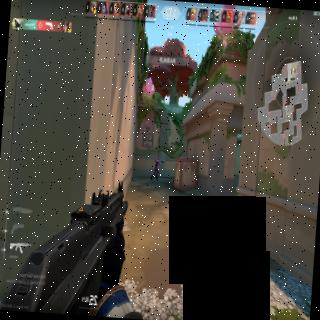ENEMY-BODY: (152, 155, 158, 180)
ENEMY-HEAD: (156, 156, 158, 160)
